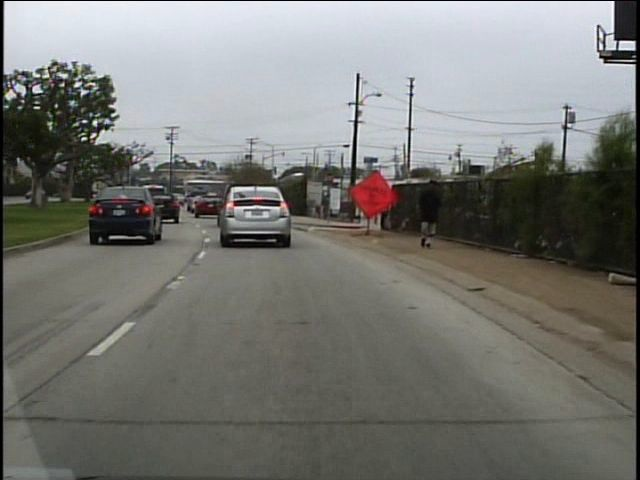person: (412, 175, 446, 256)
